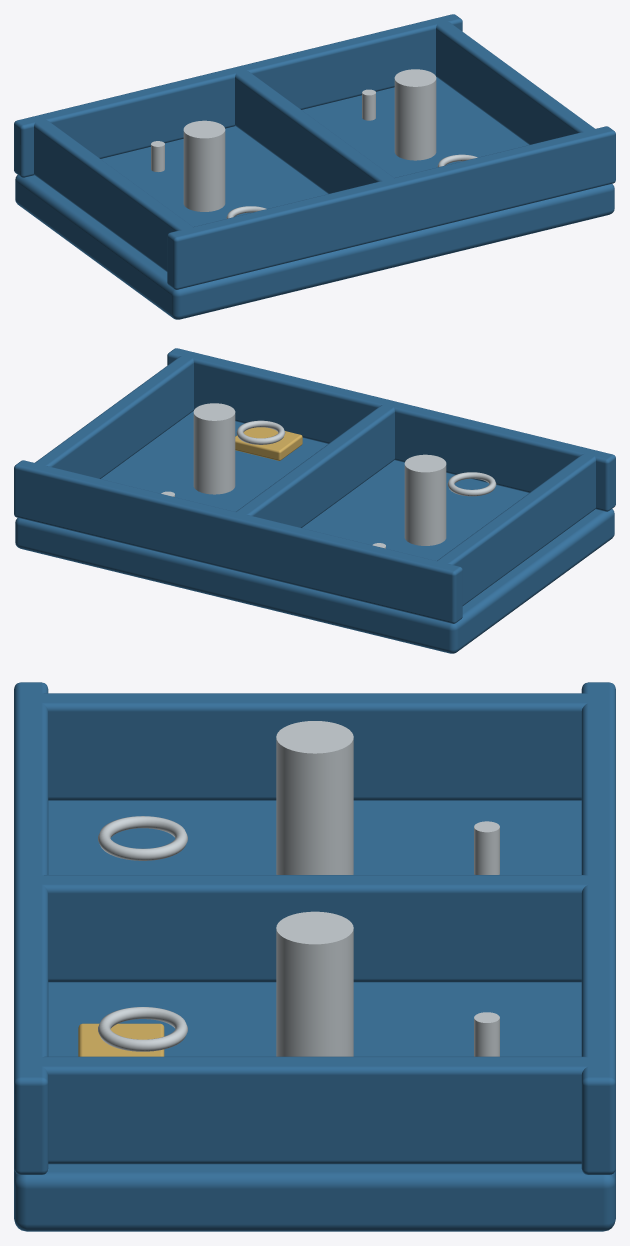
File: fencing-club-and-tournament-piste-epee-tip-assembly-tr-4b9687bd__31238.glb
The picture shows the model from 3 angles, top to bottom: view 1: azimuth 30°, elevation 25°; view 2: azimuth 150°, elevation 25°; view 3: azimuth 270°, elevation 25°; orthographic projection. The views are drawn at different scales.
Parts seen in each view (by area): view 1: epee-tip-assembly-tray; view 2: epee-tip-assembly-tray; view 3: epee-tip-assembly-tray.
Part boxes in pixels (left/top/right/bottom): epee-tip-assembly-tray: left=14, top=14, right=615, bottom=319; epee-tip-assembly-tray: left=14, top=348, right=615, bottom=653; epee-tip-assembly-tray: left=14, top=682, right=615, bottom=1231.
Size of the model in its own units: 0.22 by 0.051 by 0.14.
